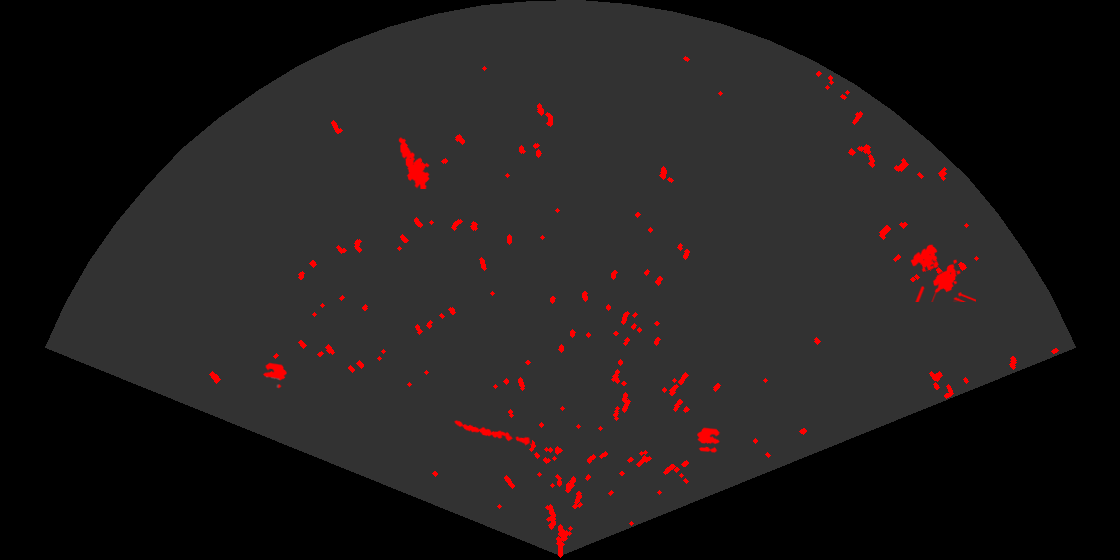ball: (261, 361, 288, 390), (696, 426, 722, 454)
cage: (909, 243, 976, 302)
chain: (452, 419, 532, 447)
frogman: (397, 135, 431, 189)
